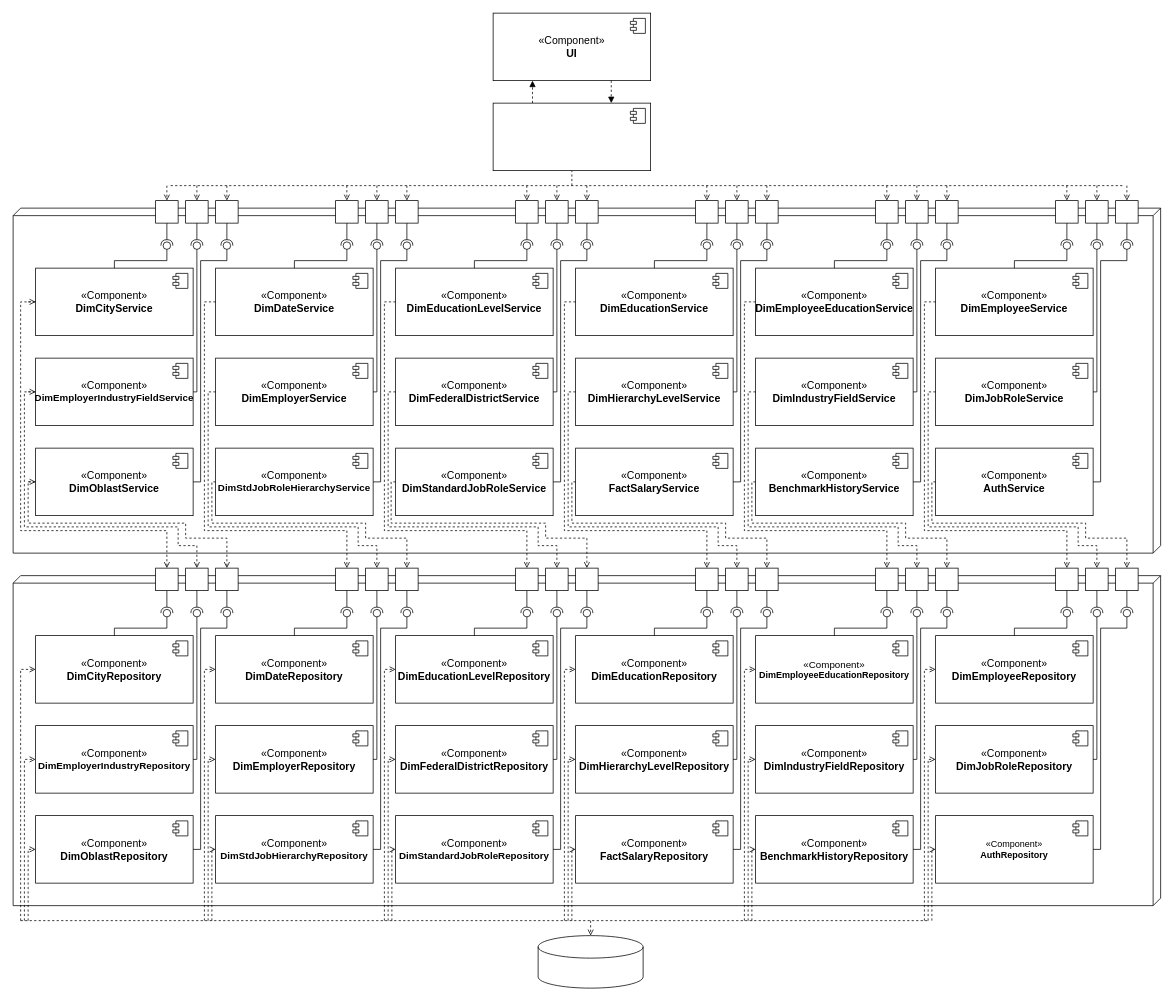
The diagram is 1174 pixels wide and 1001 high, and some of its shapes have lost their labels. Here are the shapes that lost their labels. From the top down, the box of each, then its label:
(492, 102, 651, 171): «Component» Controllers
(12, 207, 1161, 553): Business logic
(12, 575, 1161, 906): Data access
(537, 935, 643, 988): Database
